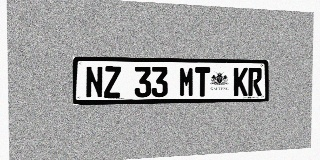3: (135, 66, 151, 97), (152, 67, 168, 97)
K: (234, 67, 248, 96)
M: (179, 67, 194, 97)
N: (85, 66, 103, 98)
R: (248, 68, 262, 96)
T: (195, 67, 210, 97)
Z: (104, 66, 121, 98)
